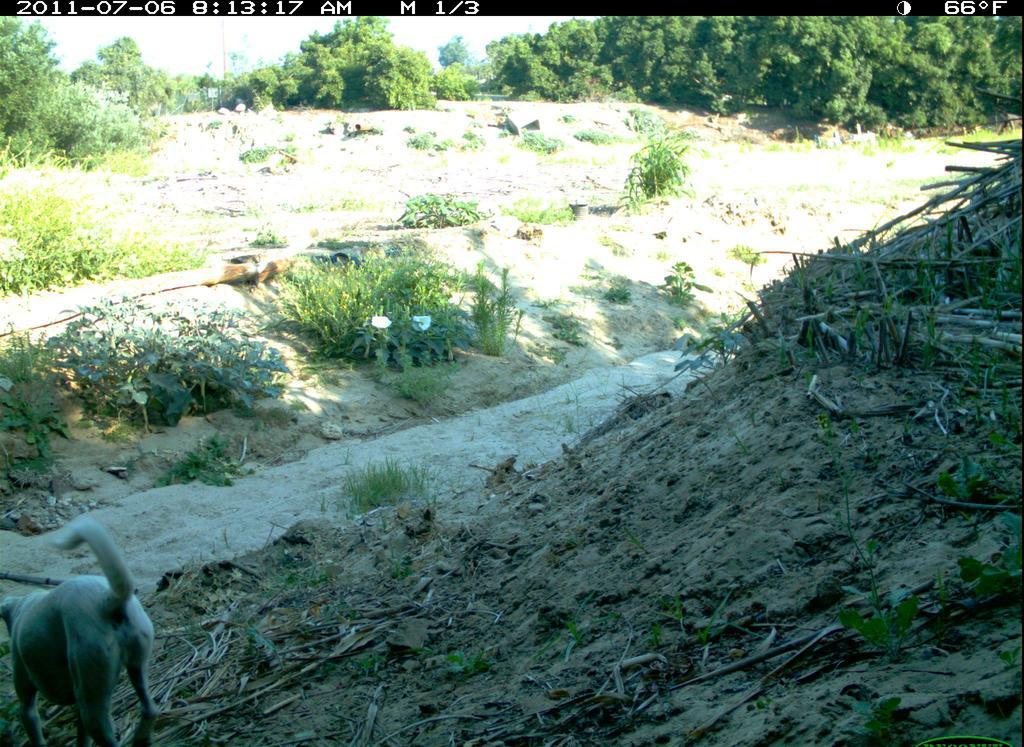dog: (1, 510, 167, 747)
